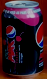pepsi: (2, 1, 45, 78)
